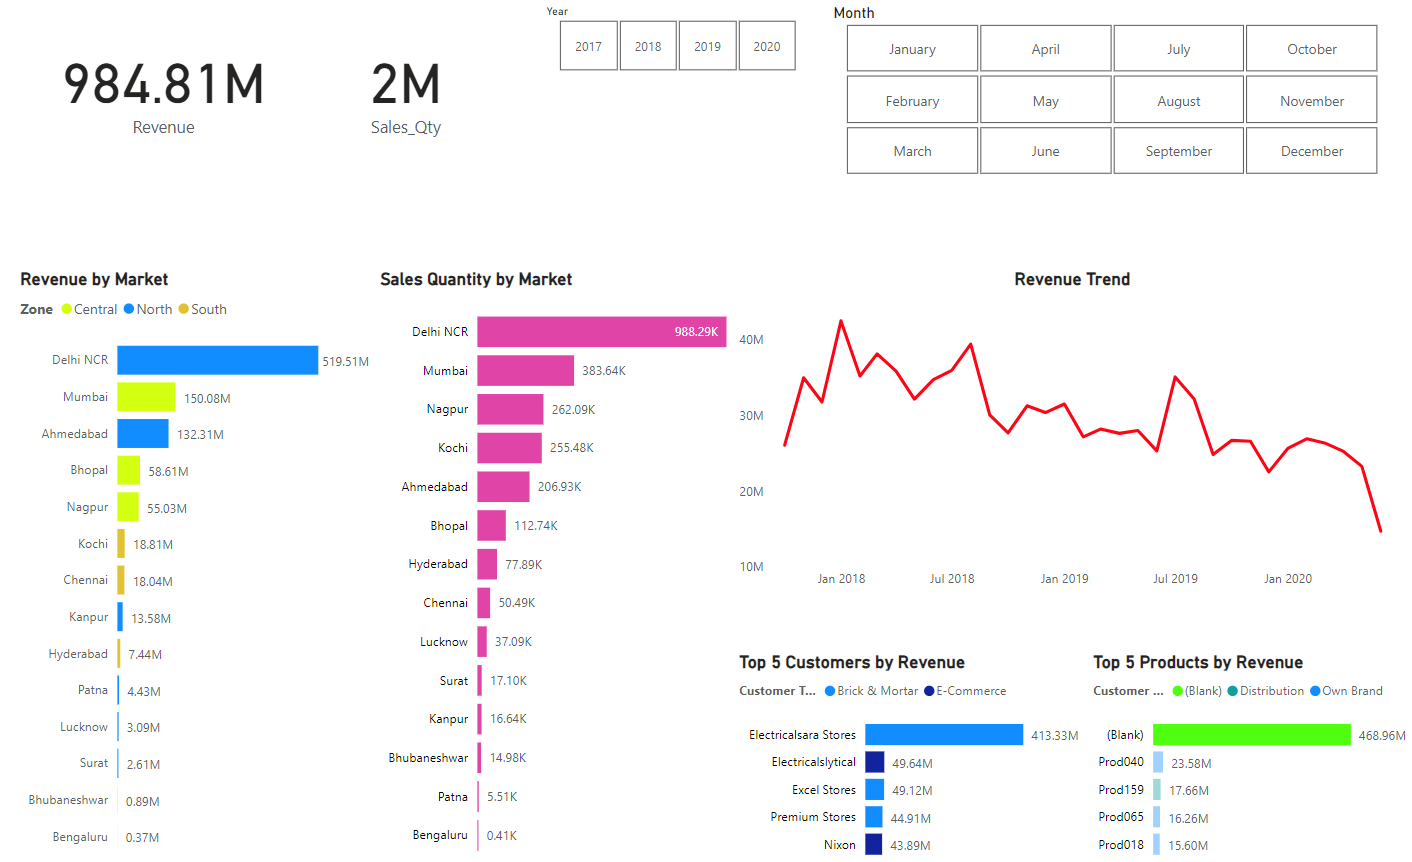

This screenshot's page, from the dashboard's own definition file:
{"tool":"powerbi","page":{"name":"Page 1","canvas":[1350,850],"ordinal":0},"visuals":[{"type":"card","fields":{"Values":["BaseMeasures.Revenue"]},"box":[0,0,287.2,183.6],"z":0},{"type":"card","fields":{"Values":["BaseMeasures.Sales_Qty"]},"box":[255.4,0,245.2,183.6],"z":1000},{"type":"barChart","title":"Revenue by Market","fields":{"Y":["BaseMeasures.Revenue"],"Category":["markets.markets_name"],"Series":["markets.zone"]},"box":[0,266.7,347.8,583.7],"z":2000},{"type":"barChart","title":"Sales Quantity by Market","fields":{"Category":["markets.markets_name"],"Y":["BaseMeasures.Sales_Qty"]},"box":[347.8,266.7,347.8,583.7],"z":3000},{"type":"slicer","fields":{"Values":["date.date.Variation.Date Hierarchy.Year"]},"box":[500.6,7.2,278,75.9],"z":4000},{"type":"slicer","fields":{"Values":["date.date.Variation.Date Hierarchy.Month"]},"box":[778.6,7.2,563.2,176.4],"z":5000},{"type":"barChart","title":"Top 5 Customers by Revenue","fields":{"Category":["customers.custmer_name"],"Series":["customers.customer_type"],"Y":["BaseMeasures.Revenue"]},"box":[695.5,637,341.6,213.4],"z":6000},{"type":"barChart","title":"Top 5 Products by Revenue","fields":{"Category":["products.product_code"],"Y":["BaseMeasures.Revenue"],"Series":["products.product_type"]},"box":[1037.1,637,312.9,213.4],"z":7000},{"type":"lineChart","title":"Revenue Trend","fields":{"Y":["BaseMeasures.Revenue"],"Category":["date.cy_date"]},"box":[695.5,266.7,654.5,319],"z":8000}]}

Visuals, with their boxes on the page's 1350x850 design canvas (x1, y1, x2, y2). These are canvas units, not pixel positions in the 1412x862 screenshot, which may show the page scaled, cropped or inside an application window:
card - BaseMeasures.Revenue: (x1=0, y1=0, x2=287, y2=184)
card - BaseMeasures.Sales_Qty: (x1=255, y1=0, x2=501, y2=184)
"Revenue by Market" barChart: (x1=0, y1=267, x2=348, y2=850)
"Sales Quantity by Market" barChart: (x1=348, y1=267, x2=696, y2=850)
slicer - date.date.Variation.Date Hierarchy.Year: (x1=501, y1=7, x2=779, y2=83)
slicer - date.date.Variation.Date Hierarchy.Month: (x1=779, y1=7, x2=1342, y2=184)
"Top 5 Customers by Revenue" barChart: (x1=696, y1=637, x2=1037, y2=850)
"Top 5 Products by Revenue" barChart: (x1=1037, y1=637, x2=1350, y2=850)
"Revenue Trend" lineChart: (x1=696, y1=267, x2=1350, y2=586)
